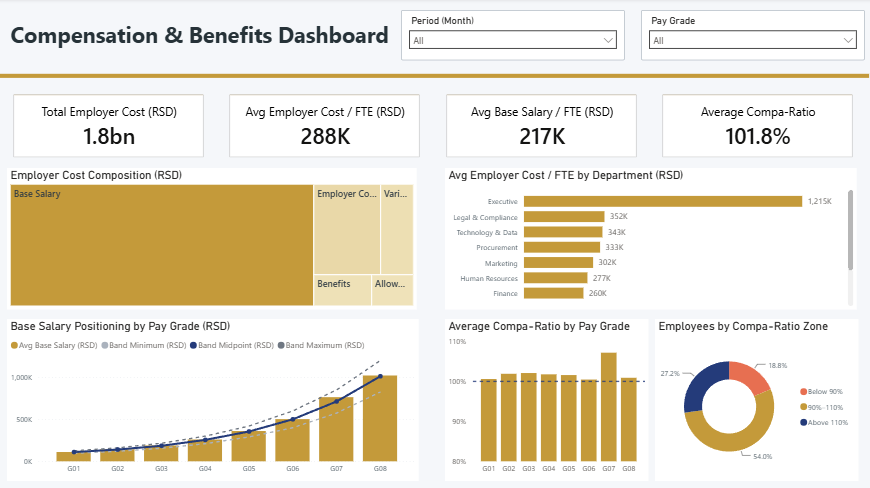

The dashboard page shown, as its layout file describes it:
{"tool":"powerbi","page":{"name":"Compensation & Benefits","canvas":[1280,720],"ordinal":1},"visuals":[{"type":"cardVisual","fields":{"Data":["_CB Measures.Average Employer Cost per FTE"]},"box":[323.5,124.4,313.9,126],"z":0},{"type":"textbox","box":[13.6,25.8,567.2,59.1],"z":1000},{"type":"shape","box":[0,98.6,1280,31.8],"z":2000},{"type":"slicer","fields":{"Values":["DimJob.Grade"]},"box":[944.8,18.2,329.1,74.3],"z":3000},{"type":"cardVisual","fields":{"Data":["_CB Measures.Total Employer Cost"]},"box":[5.6,124.4,313.9,126],"z":4000},{"type":"cardVisual","fields":{"Data":["_CB Measures.Average Base Salary per FTE"]},"box":[641.5,124.4,313.9,126],"z":5000},{"type":"cardVisual","fields":{"Data":["_CB Measures.Average Compa-Ratio"]},"box":[959.5,124.4,313.9,126],"z":6000},{"type":"treemap","title":"Employer Cost Composition (RSD)","fields":{"Group":["Cost Components.Component"],"Values":["_CB Measures.Cost Component Value"]},"box":[13.6,250.2,602.1,207.8],"z":7000},{"type":"clusteredBarChart","title":"Avg Employer Cost / FTE by Department (RSD)","fields":{"Category":["DimOrganization.Department"],"Y":["_CB Measures.Average Employer Cost per FTE"]},"box":[656.7,250.2,605.1,207.8],"z":8000},{"type":"lineClusteredColumnComboChart","title":"Base Salary Positioning by Pay Grade (RSD)","fields":{"Category":["DimJob.Grade"],"Y":["_CB Measures.Avg Base Salary FTE - Latest Month"],"Y2":["_CB Measures.Avg Salary Band Min - Latest Month","_CB Measures.Avg Salary Band Mid - Latest Month","_CB Measures.Avg Salary Band Max - Latest Month"]},"box":[13.6,471.7,605.1,238.1],"z":9000},{"type":"clusteredColumnChart","title":"Average Compa-Ratio by Pay Grade","fields":{"Category":["DimJob.Grade"],"Y":["_CB Measures.Average Compa-Ratio"]},"box":[656.7,471.7,298.8,238.1],"z":10000},{"type":"donutChart","title":"Employees by Compa-Ratio Zone","fields":{"Y":["_CB Measures.Employees by Compa-Ratio Zone"],"Category":["Compa Ratio Zones.Zone Short"]},"box":[966.1,471.7,298.8,238.1],"z":11000},{"type":"slicer","fields":{"Values":["DimDate.YearMonth"]},"box":[591.5,18.2,329.1,74.3],"z":12000}]}

Visuals, with their boxes in screenshot pixels (x1, y1, x2, y2), scaled from the page's 1280x720 canvas onto the 870x488 screenshot:
cardVisual - _CB Measures.Average Employer Cost per FTE: 220/84/433/170
textbox: 9/17/395/58
shape: 0/67/869/88
slicer - DimJob.Grade: 642/12/866/63
cardVisual - _CB Measures.Total Employer Cost: 4/84/217/170
cardVisual - _CB Measures.Average Base Salary per FTE: 436/84/649/170
cardVisual - _CB Measures.Average Compa-Ratio: 652/84/866/170
"Employer Cost Composition (RSD)" treemap: 9/170/418/310
"Avg Employer Cost / FTE by Department (RSD)" clusteredBarChart: 446/170/858/310
"Base Salary Positioning by Pay Grade (RSD)" lineClusteredColumnComboChart: 9/320/421/481
"Average Compa-Ratio by Pay Grade" clusteredColumnChart: 446/320/649/481
"Employees by Compa-Ratio Zone" donutChart: 657/320/860/481
slicer - DimDate.YearMonth: 402/12/626/63
